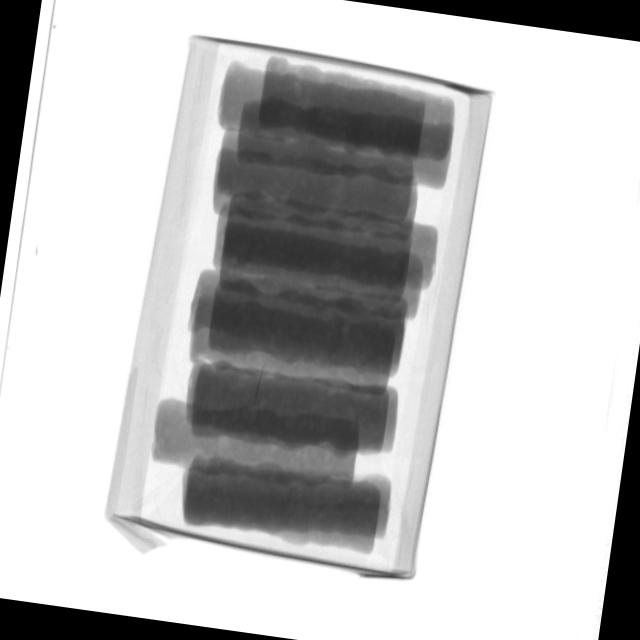ym: (253, 358, 269, 410)
